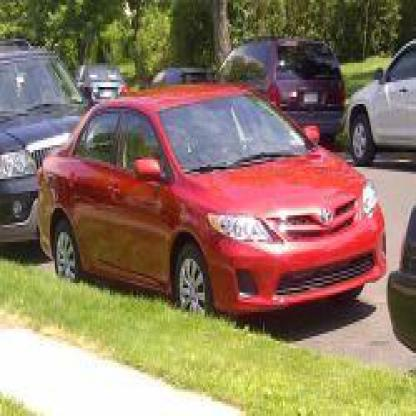Vehicle: (32, 90, 391, 324)
